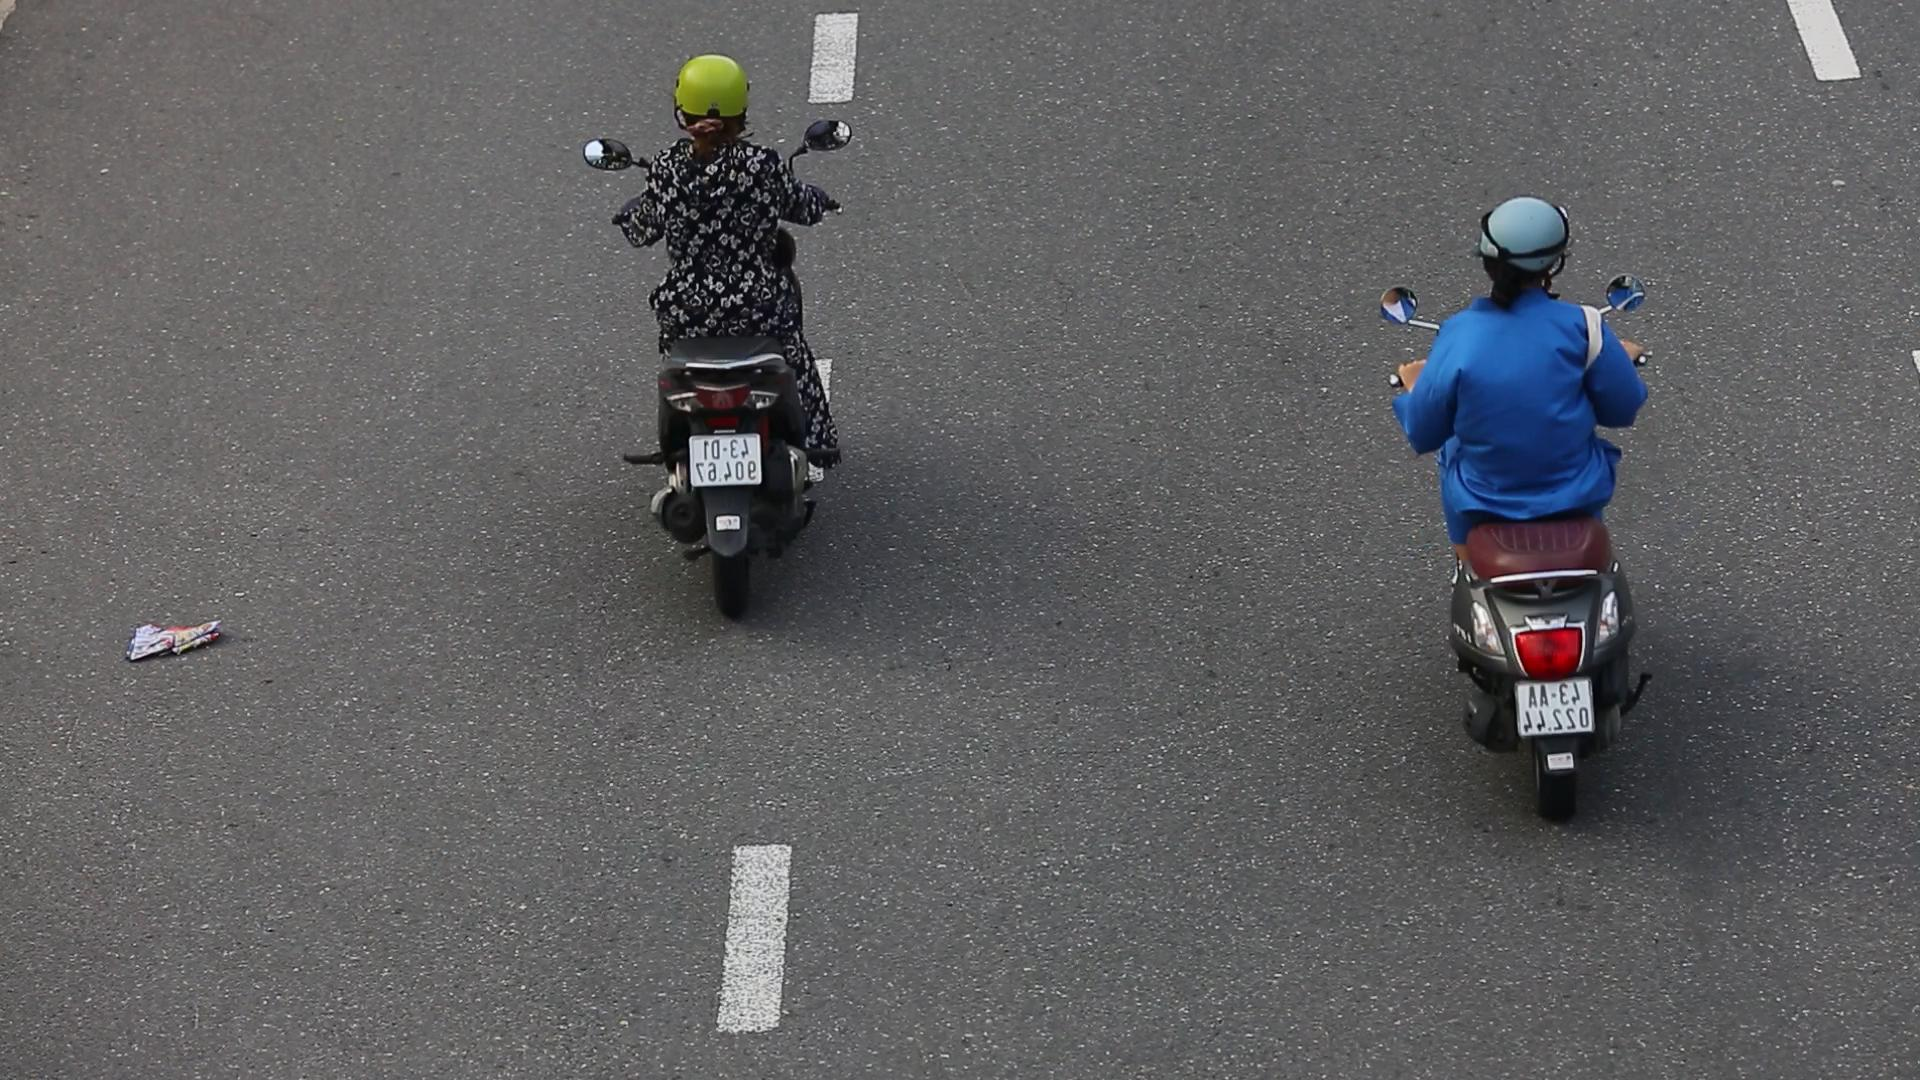motobike: (1354, 154, 1706, 831), (564, 36, 861, 612)
